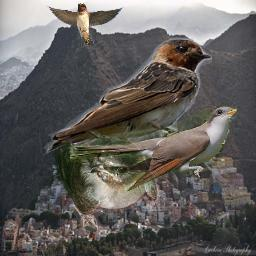Cuckoo: (70, 106, 237, 191)
Swallow: (43, 36, 212, 159), (41, 128, 160, 235), (44, 2, 124, 47)
